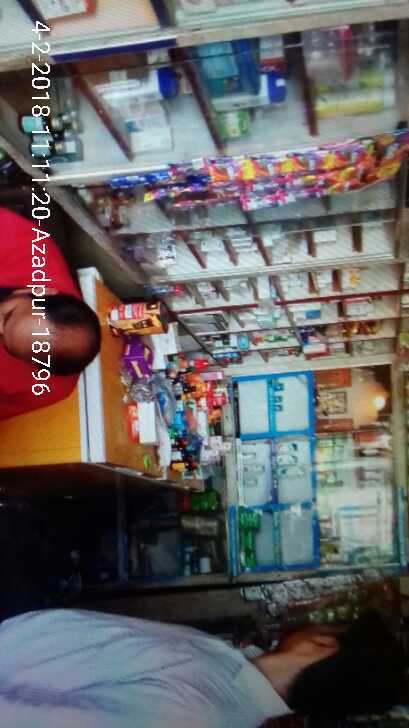vicks: (272, 381, 286, 412)
